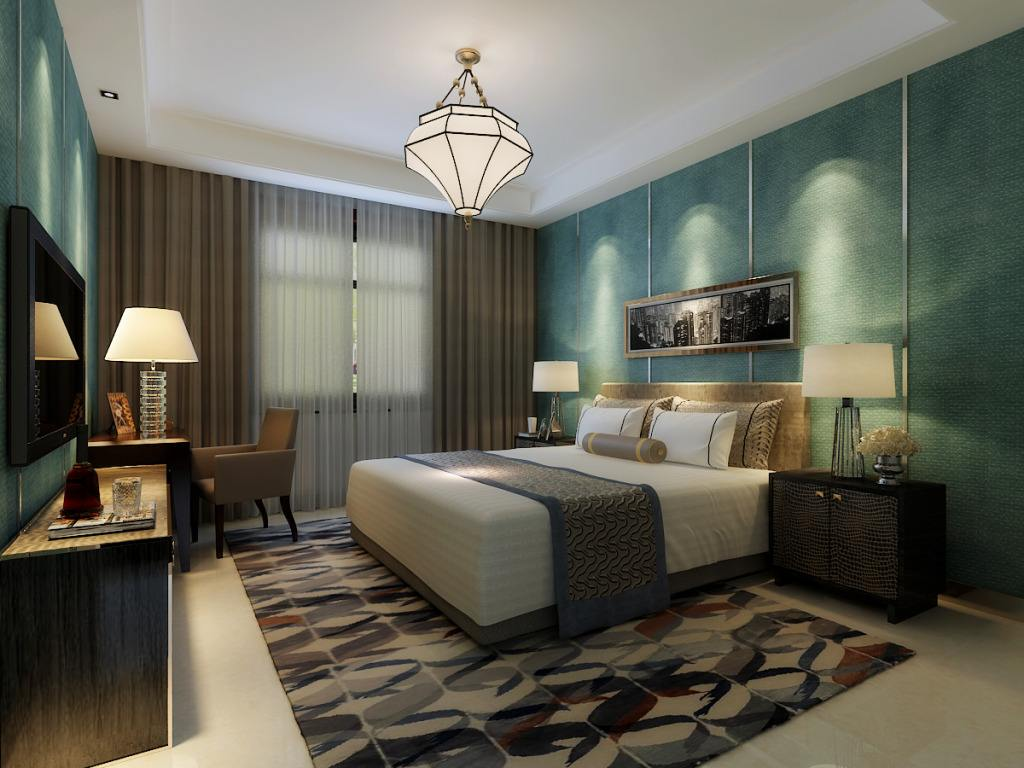床: (345, 442, 776, 624)
枕头: (569, 395, 771, 472)
灯: (391, 49, 535, 229), (800, 343, 900, 484), (105, 301, 198, 443), (27, 299, 81, 435), (527, 359, 583, 444), (97, 90, 123, 107)
